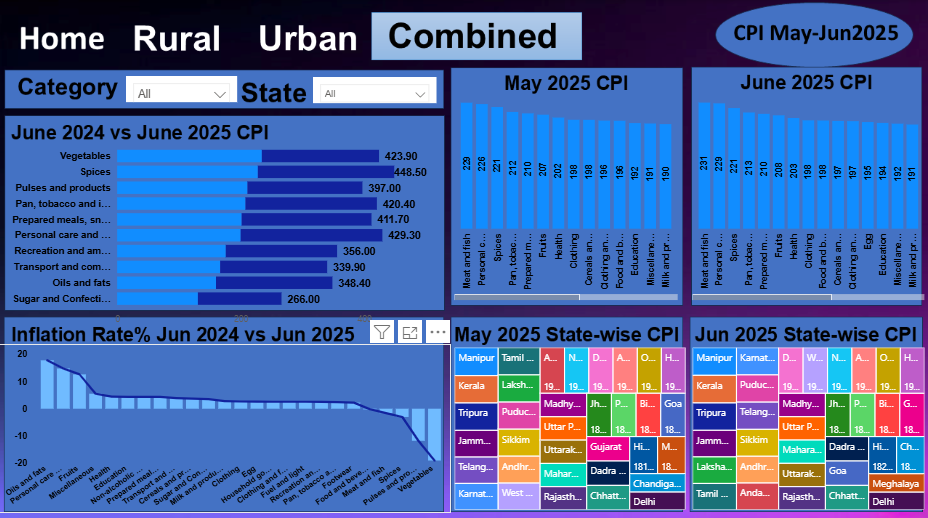

Layout of this report page (visuals, bound fields, positions):
{"tool":"powerbi","page":{"name":"Combined Dashboard","canvas":[1280,720],"ordinal":3},"visuals":[{"type":"slicer","fields":{"Values":["Annex-II.Category"]},"box":[175.9,104.4,153,35.8],"z":0},{"type":"slicer","fields":{"Values":["Annex-III.State/UT"]},"box":[433.3,105.8,170.2,35.8],"z":1000},{"type":"barChart","fields":{"Category":["Annex-II.Category"],"Y":["Sum(Annex-II.Combined_June_2024_CPI)","Sum(Annex-II.Combined_June_2025_CPI)"]},"box":[0,184.5,605,273.2],"z":2000},{"type":"lineStackedColumnComboChart","fields":{"Category":["Annex-II.Category"],"Y":["Sum(Annex-II.Combined_Inflation_Rate%)"],"Y2":["Sum(Annex-II.Combined_Inflation_Rate%)"]},"box":[0,473.4,623.6,233.1],"z":3000},{"type":"clusteredColumnChart","fields":{"Category":["Annex-I.Category"],"Y":["Sum(Annex-I.Combined_May_2025_CPI)"]},"box":[623.6,105.8,317.5,311.8],"z":4000},{"type":"clusteredColumnChart","fields":{"Y":["Sum(Annex-I.Combined_June_2025_CPI)"],"Category":["Annex-I.Category"]},"box":[951.1,105.8,328.9,311.8],"z":5000},{"type":"treemap","fields":{"Values":["Sum(Annex-III.Combined_May_2025_CPI)"],"Group":["Annex-III.State/UT"]},"box":[623.6,473.4,327.5,233.1],"z":6000},{"type":"treemap","fields":{"Values":["Sum(Annex-III.Combined_June_2025_CPI)"],"Group":["Annex-III.State/UT"]},"box":[951.1,473.4,328.9,233.1],"z":7000},{"type":"actionButton","box":[21.5,24.3,134.4,54.3],"z":8000},{"type":"actionButton","box":[175.9,24.3,135.9,54.3],"z":9000},{"type":"actionButton","box":[347.5,24.3,154.5,54.3],"z":10000}]}

Visuals, with their boxes in screenshot pixels (x1, y1, x2, y2), scaled from the page's 1280x720 canvas onto the 928x518 screenshot:
slicer - Annex-II.Category: detection(128, 75, 238, 101)
slicer - Annex-III.State/UT: detection(314, 76, 438, 102)
barChart - Annex-II.Category x Sum(Annex-II.Combined_June_2024_CPI): detection(0, 133, 439, 329)
lineStackedColumnComboChart - Annex-II.Category x Sum(Annex-II.Combined_Inflation_Rate%): detection(0, 341, 452, 508)
clusteredColumnChart - Annex-I.Category x Sum(Annex-I.Combined_May_2025_CPI): detection(452, 76, 682, 300)
clusteredColumnChart - Sum(Annex-I.Combined_June_2025_CPI) x Annex-I.Category: detection(690, 76, 927, 300)
treemap - Sum(Annex-III.Combined_May_2025_CPI) x Annex-III.State/UT: detection(452, 341, 690, 508)
treemap - Sum(Annex-III.Combined_June_2025_CPI) x Annex-III.State/UT: detection(690, 341, 927, 508)
actionButton: detection(16, 17, 113, 57)
actionButton: detection(128, 17, 226, 57)
actionButton: detection(252, 17, 364, 57)
